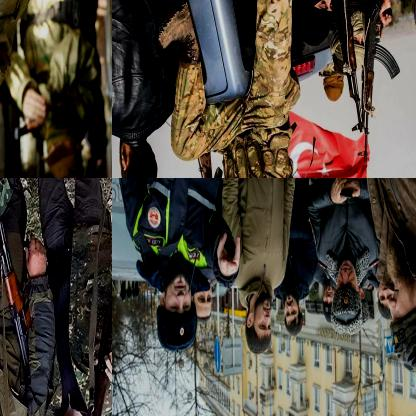pistol: (8, 106, 45, 144)
rifle: (327, 0, 380, 135), (73, 231, 111, 415), (356, 8, 398, 167), (0, 209, 36, 373)
